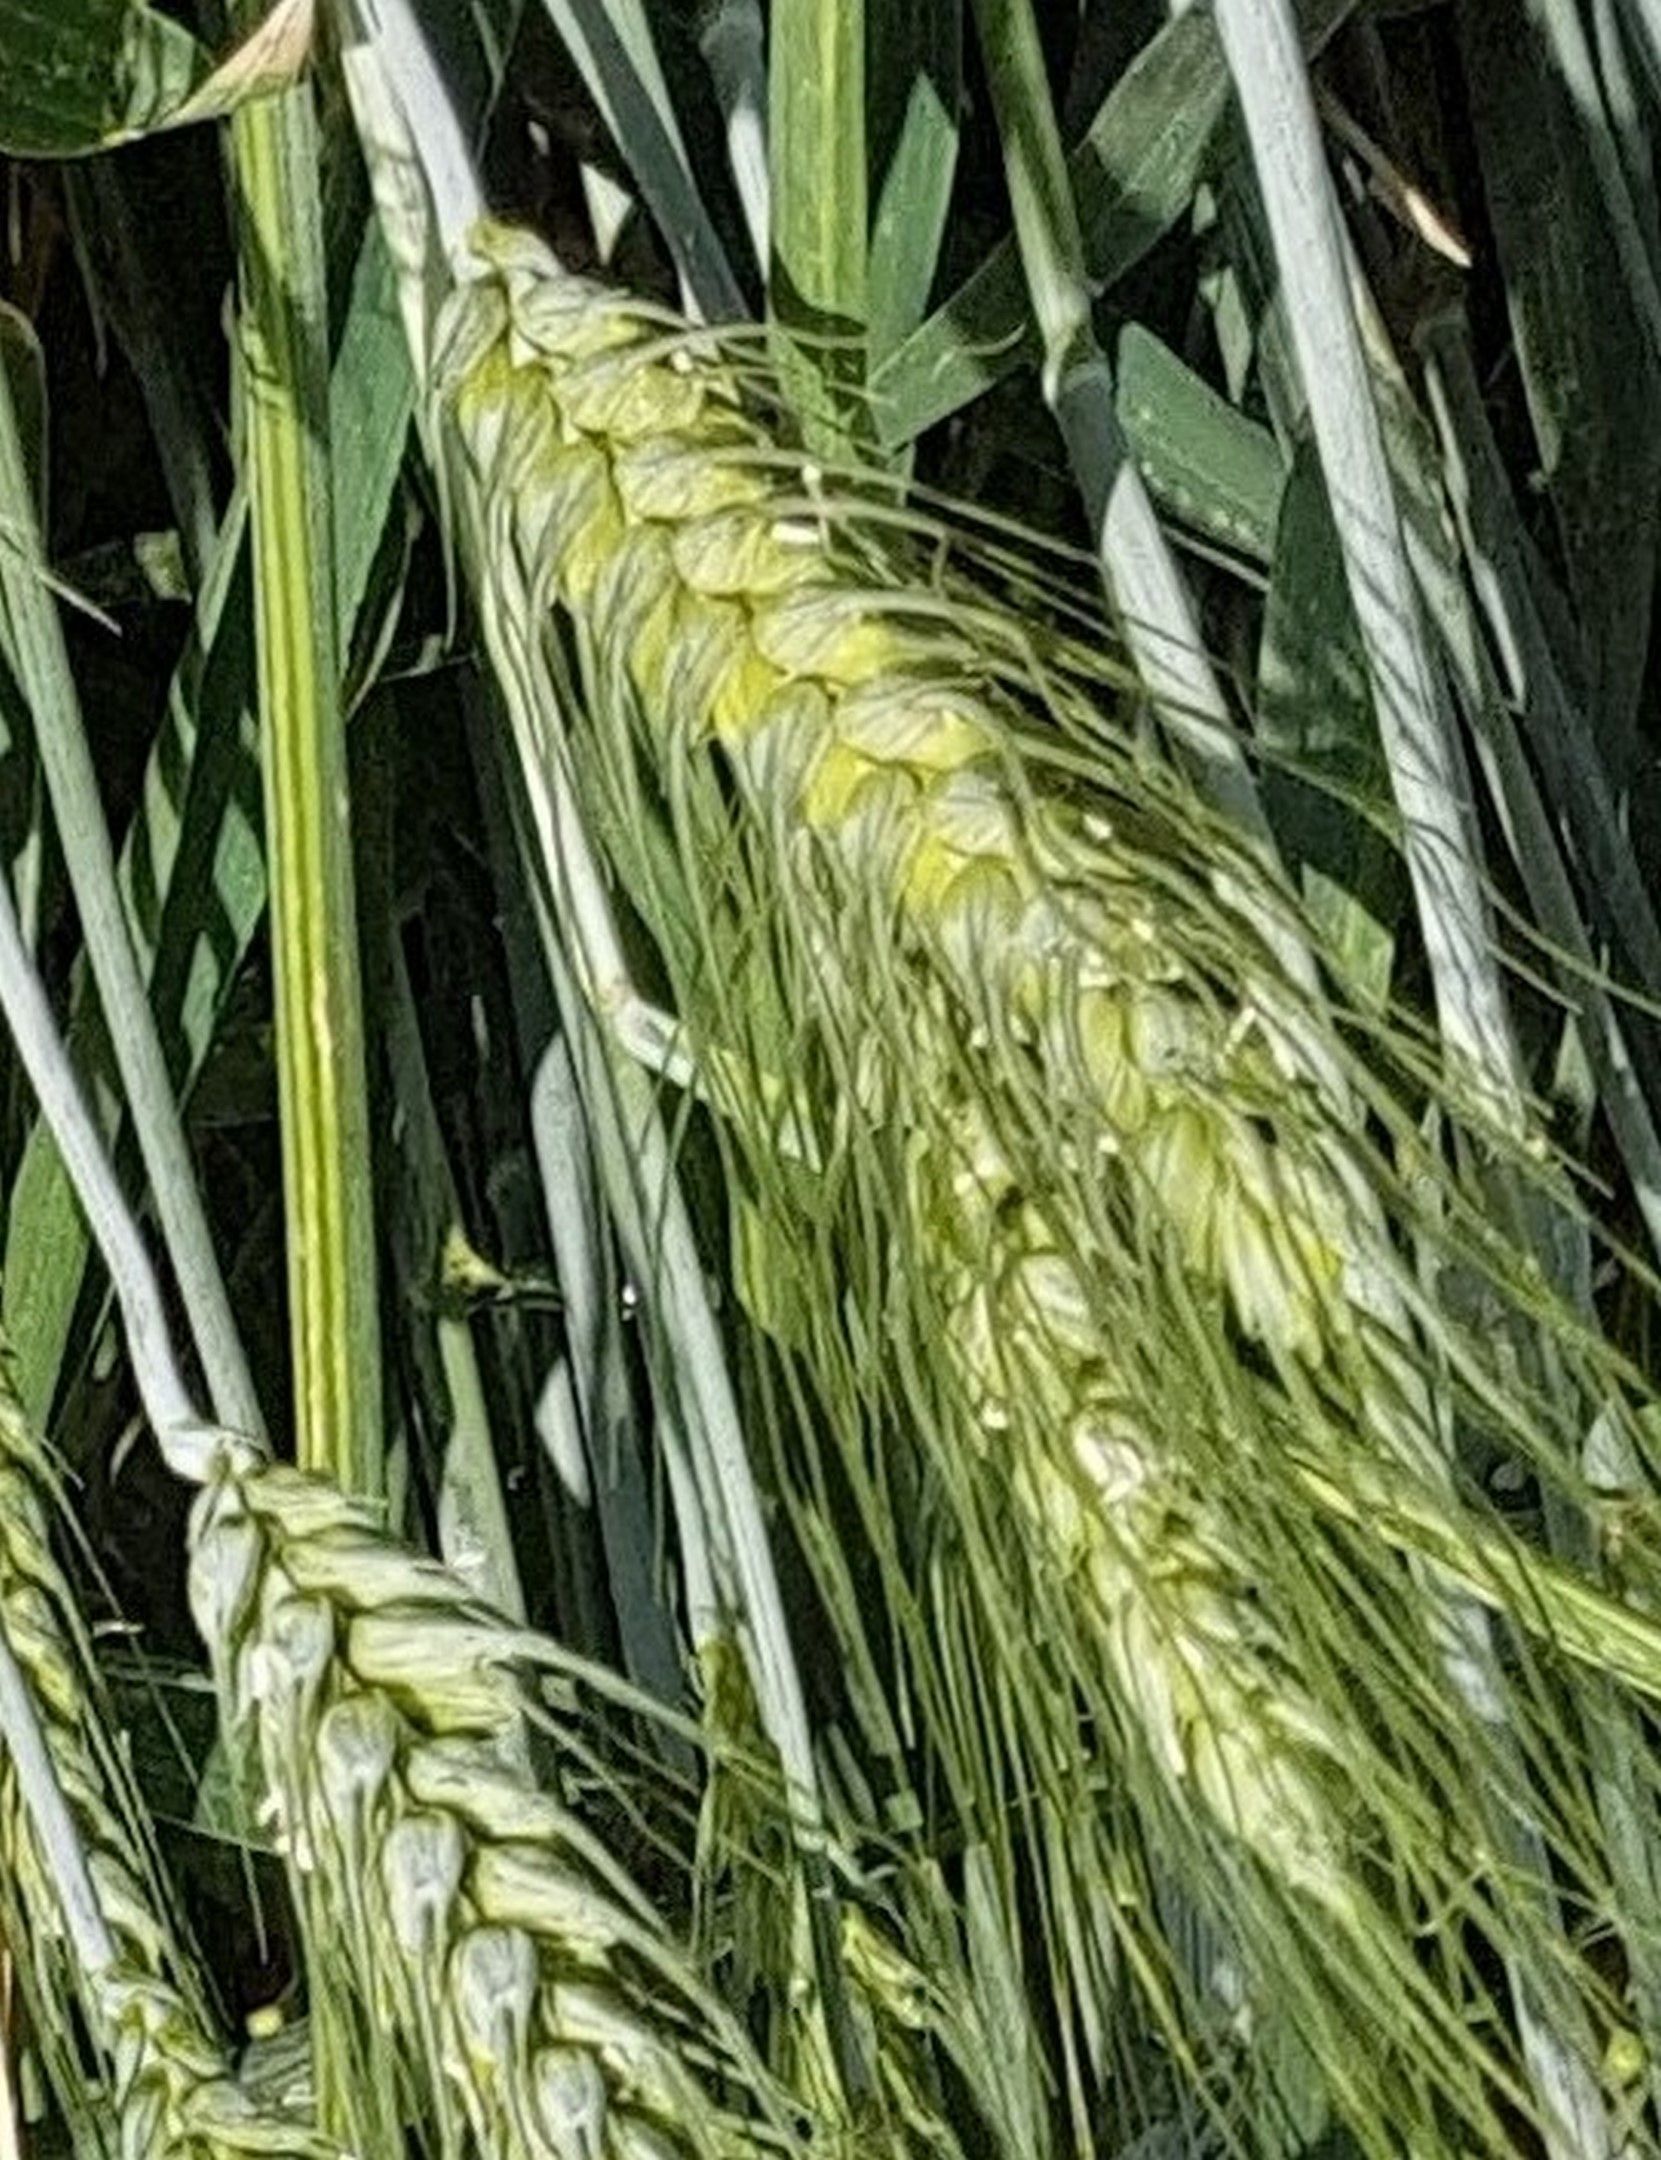Healthy Wheat: (433, 244, 1500, 1361)
